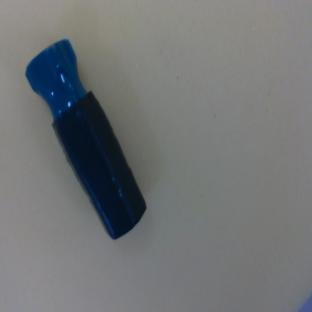part_2_bad: (18, 37, 156, 243)
